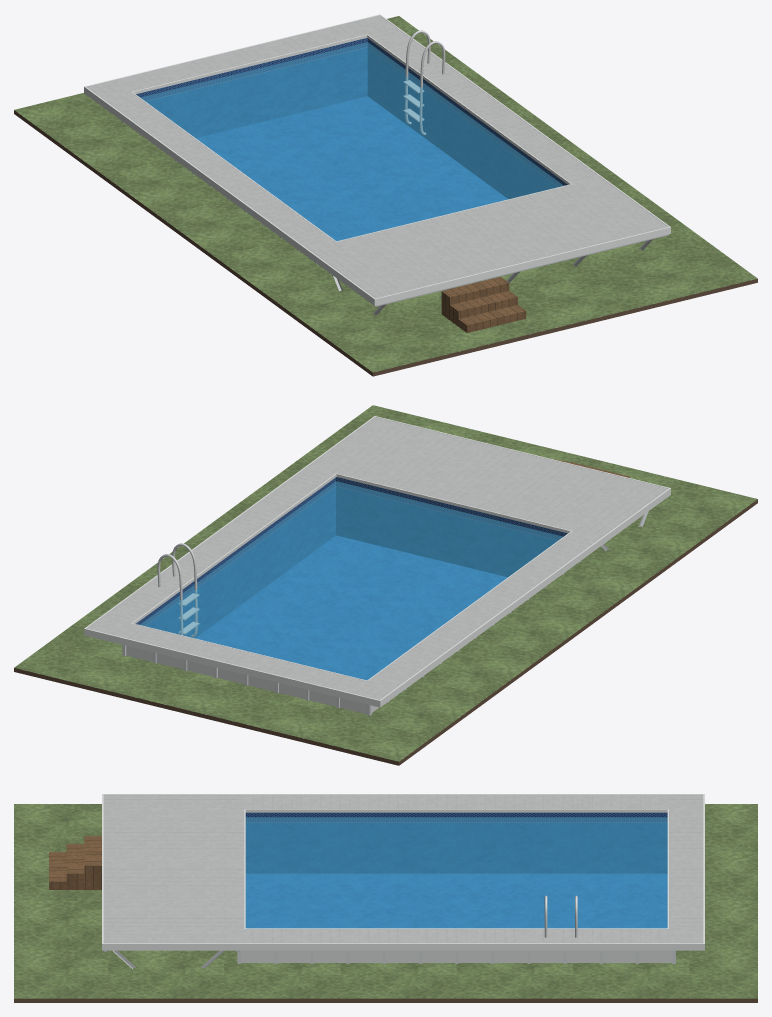
File: kayak-pool-16x24-white-end-rec-nofence.9c15052568.glb
The picture shows the model from 3 angles, top to bottom: view 1: azimuth 30°, elevation 25°; view 2: azimuth 150°, elevation 25°; view 3: azimuth 270°, elevation 25°; orthographic projection. The views are drawn at different scales.
Parts seen in each view (by area): view 1: ground, water, deck, liner_floor, liner_wall, fascia, soil, steps, steel, stud; view 2: ground, water, deck, liner_floor, liner_wall, fascia, soil, wall, steel; view 3: ground, water, deck, liner_wall, liner_floor, fascia, wall, soil, steps, upright.
Part boxes in pixels (left/top/right/bottom): ground: left=14, top=16, right=757, bottom=372; water: left=140, top=42, right=563, bottom=240; deck: left=86, top=15, right=668, bottom=298; liner_floor: left=196, top=96, right=507, bottom=240; liner_wall: left=136, top=38, right=567, bottom=198; fascia: left=84, top=14, right=670, bottom=305; soil: left=14, top=110, right=757, bottom=376; steps: left=441, top=276, right=526, bottom=332; steel: left=403, top=30, right=445, bottom=134; stud: left=310, top=234, right=668, bottom=315; ground: left=14, top=405, right=757, bottom=761; water: left=140, top=481, right=562, bottom=679; deck: left=86, top=417, right=668, bottom=699; liner_floor: left=195, top=535, right=507, bottom=680; liner_wall: left=136, top=477, right=567, bottom=638; fascia: left=84, top=416, right=670, bottom=707; soil: left=14, top=499, right=757, bottom=765; wall: left=126, top=645, right=378, bottom=714; steel: left=157, top=543, right=199, bottom=637; ground: left=14, top=804, right=757, bottom=998; water: left=245, top=817, right=667, bottom=928; deck: left=103, top=795, right=703, bottom=943; liner_wall: left=245, top=812, right=667, bottom=873; liner_floor: left=245, top=873, right=667, bottom=928; fascia: left=102, top=794, right=704, bottom=950; wall: left=241, top=950, right=672, bottom=962; soil: left=14, top=998, right=757, bottom=1002; steps: left=49, top=836, right=101, bottom=889; upright: left=237, top=950, right=675, bottom=963.
Size of the model in its own units: 7.92 by 1.9 by 12.79.
Materials: 12 (5 with a texture image).
